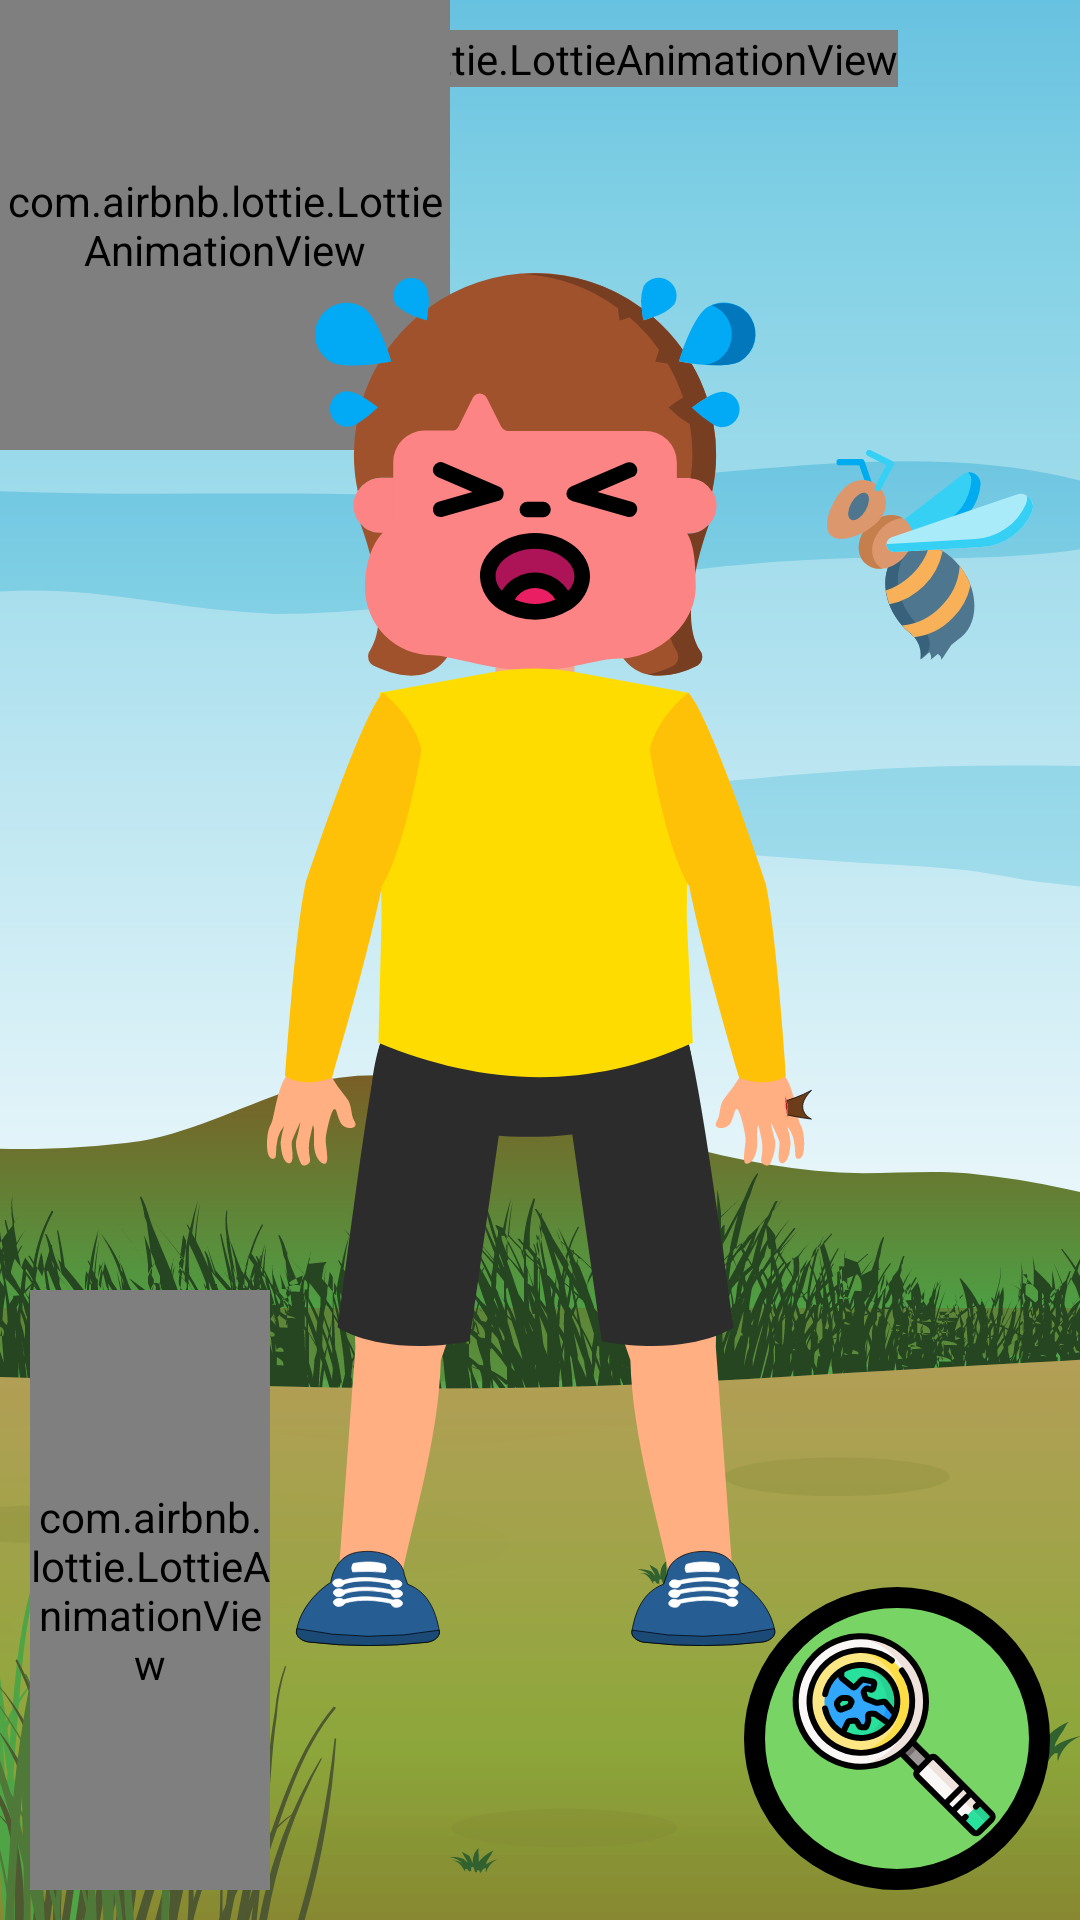

Locate icon controls on the screen. Image size 1080×1920, boxes as (x1,y1,x2,y2).
bee: (827,450,1033,660)
research: (744,1587,1050,1890)
